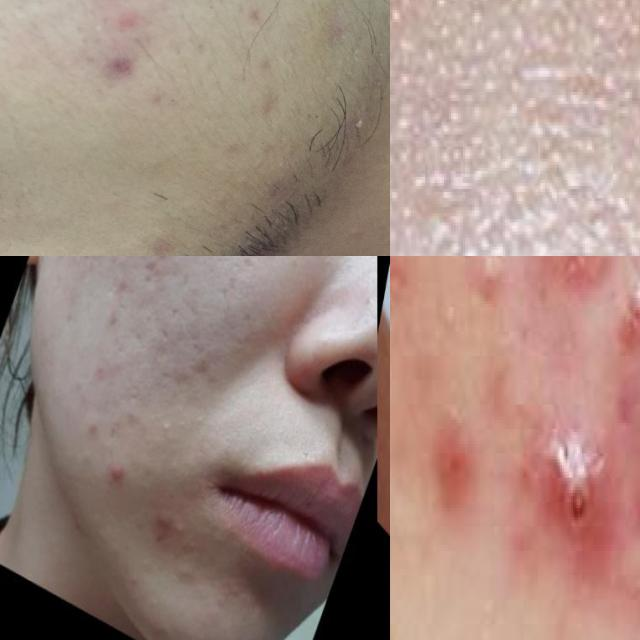comedone: (390, 0, 507, 225), (158, 550, 210, 620), (465, 256, 509, 316), (115, 559, 148, 598), (153, 412, 181, 450), (170, 517, 190, 545)
papule: (527, 426, 630, 584), (598, 258, 640, 361), (94, 442, 142, 506), (140, 499, 178, 551)
